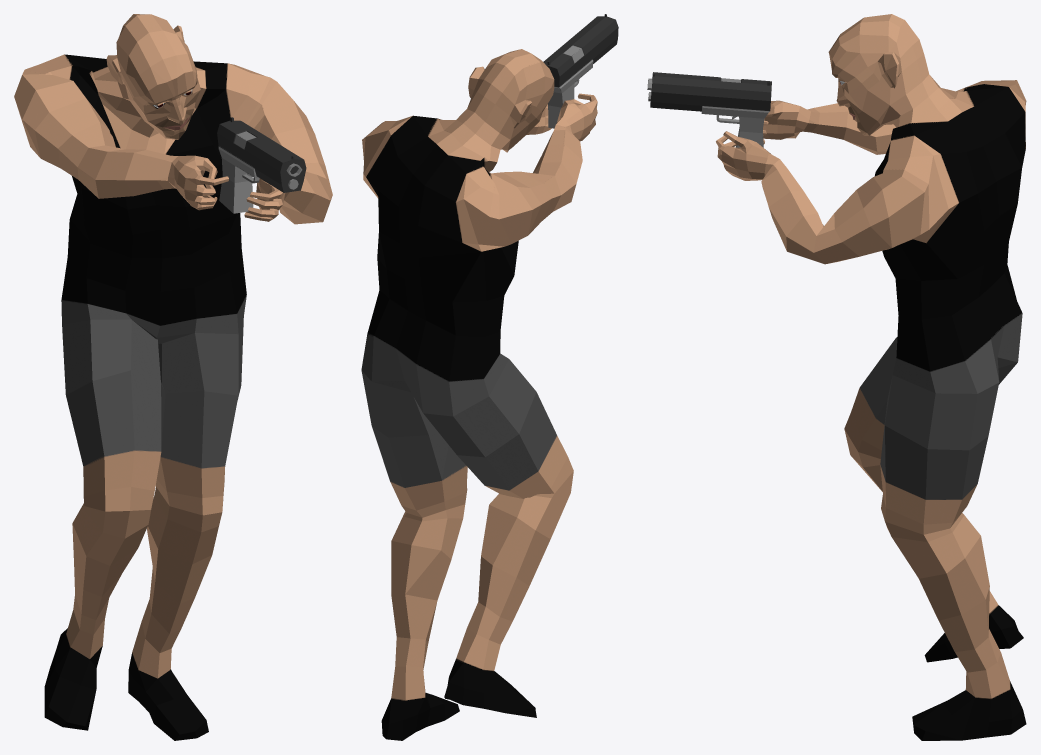
Rendered from PlayerWalk(11).obj.
The picture shows the model from 3 angles, left to right: view 1: azimuth 30°, elevation 25°; view 2: azimuth 150°, elevation 25°; view 3: azimuth 270°, elevation 25°; orthographic projection. The views are drawn at different scales.
Parts seen in each view (by area): view 1: Plane002, Box003; view 2: Plane002, Box003; view 3: Plane002, Box003.
Boxes of the visible parts, x1,y1,x2,y2 form: Plane002: (14,14,332,740); Box003: (217,117,306,213); Plane002: (361,49,597,740); Box003: (543,14,618,128); Plane002: (716,14,1026,740); Box003: (647,72,771,147).
Bounding box in the file's own units: 567 × 1727 × 863.
